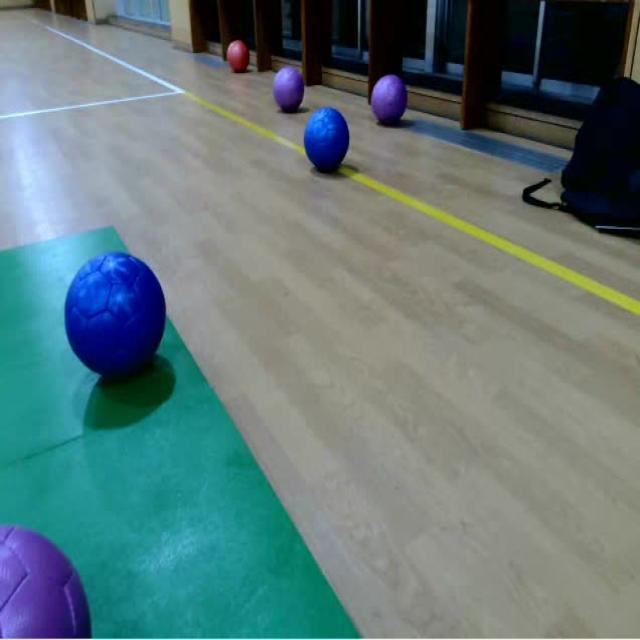blue_ball: (62, 252, 166, 383), (305, 109, 348, 167)
purple_ball: (0, 516, 97, 640), (379, 75, 406, 124), (274, 67, 301, 106)
red_ball: (226, 38, 251, 71)
